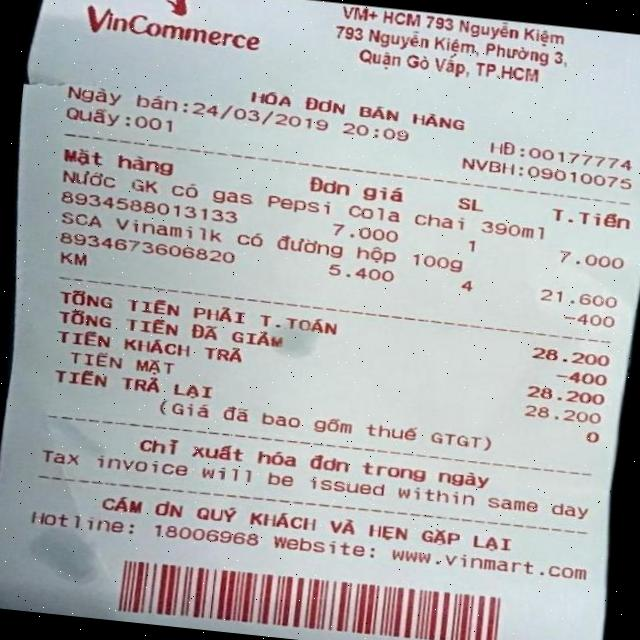Date: (187, 98, 333, 138)
Store_Name: (73, 0, 290, 69)
amount_number: (509, 336, 614, 373)
label_total: (44, 284, 352, 339)
